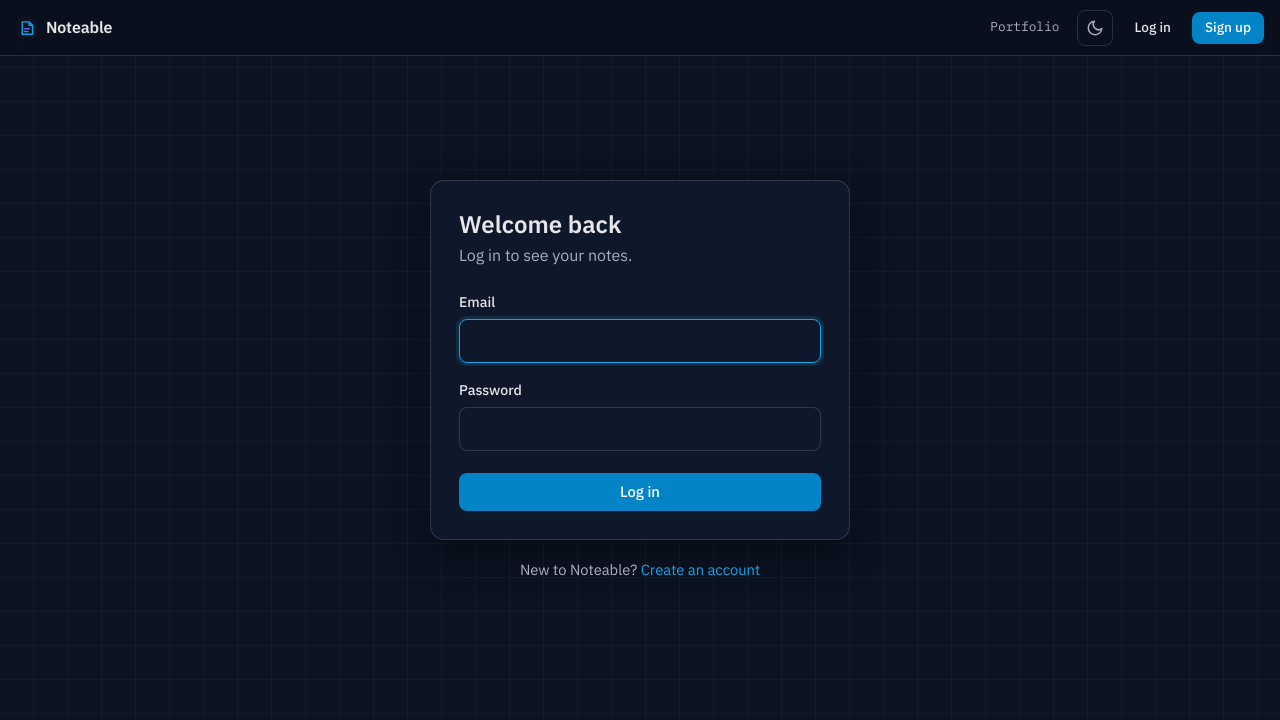
Scenario: public / private routing › shows server errors on the login form
Type "alice@example.com" into the field labelled "Email" at (640, 341), box [459, 319, 821, 363]
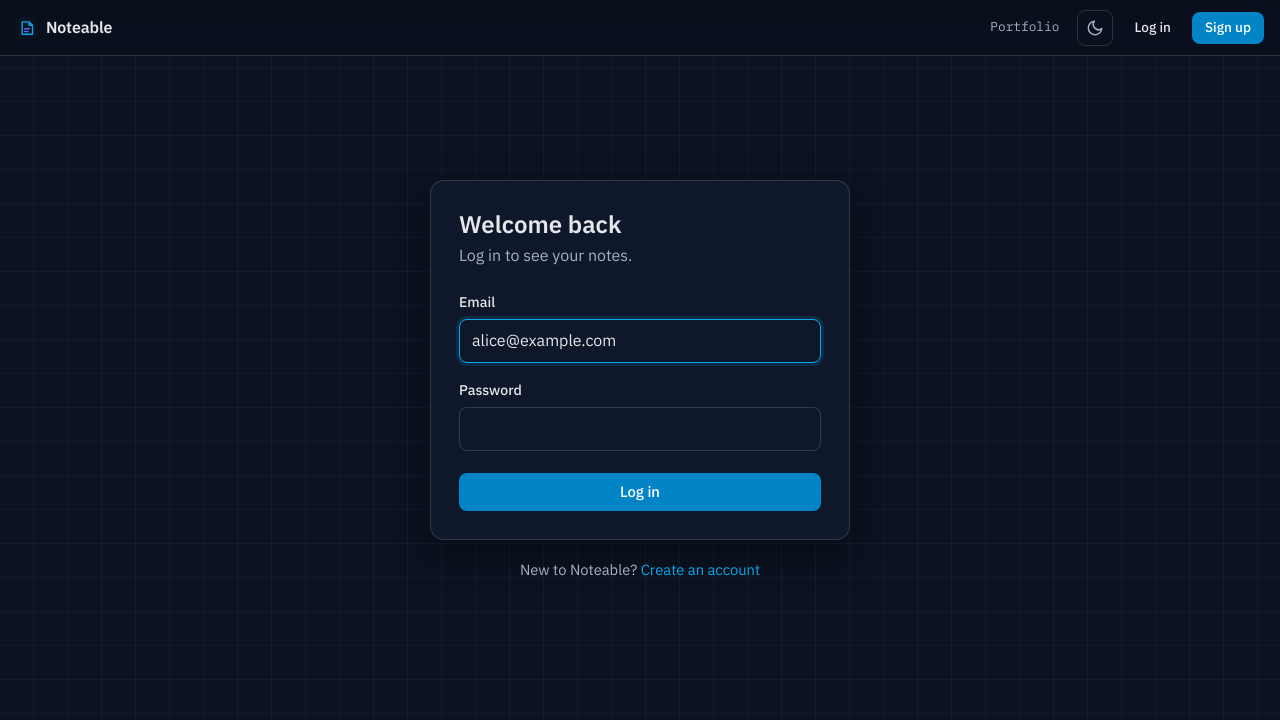
Type "wrongpass1" into the password field labelled "Password" at (640, 429), box [459, 407, 821, 451]
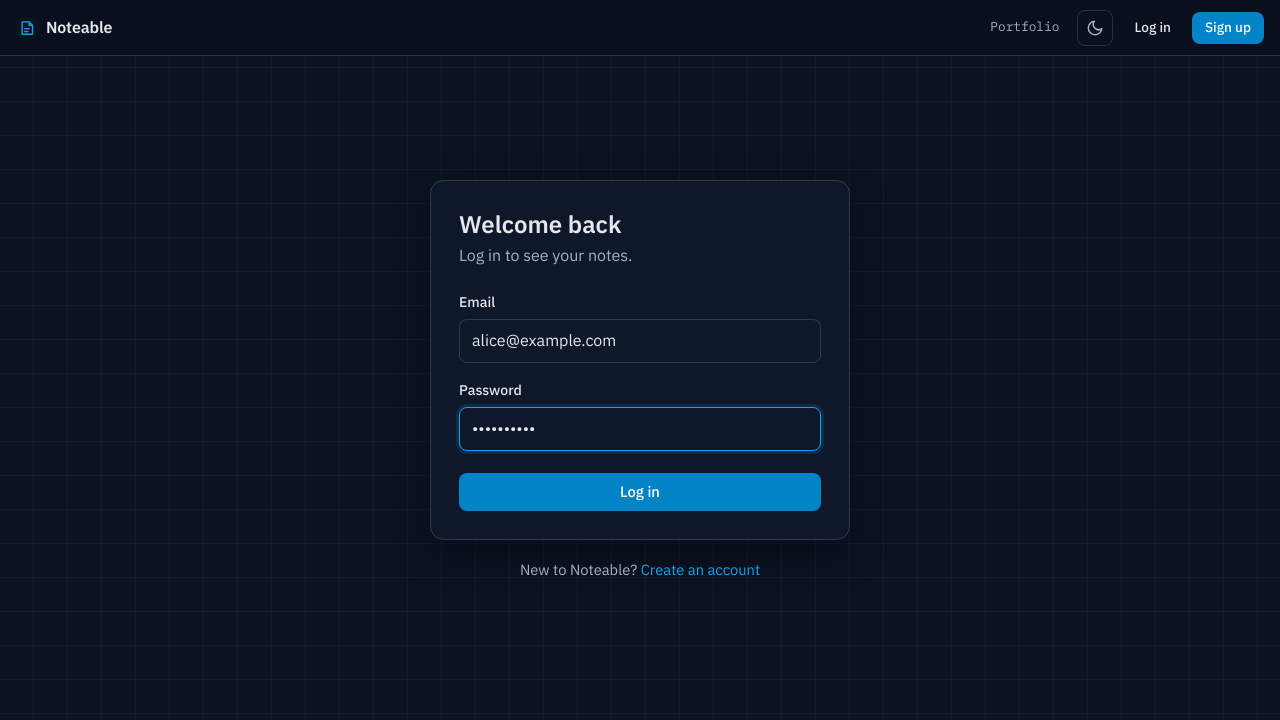
Click the button "Log in" at (640, 492), box [459, 473, 821, 511]
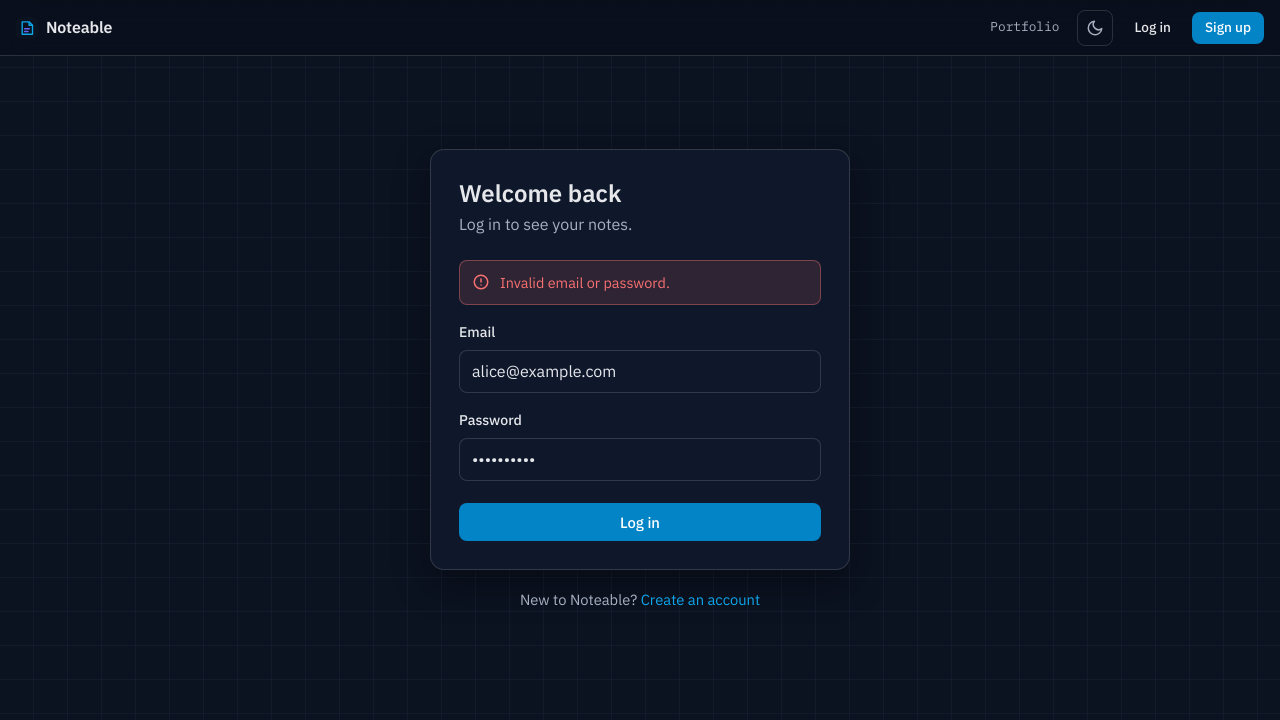
expect the message reads "Invalid email or password.": met, box [500, 273, 670, 292]
